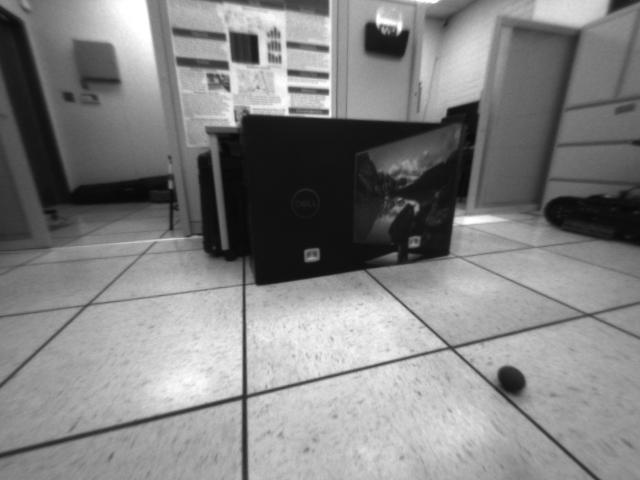dogtoy: (493, 359, 529, 397)
